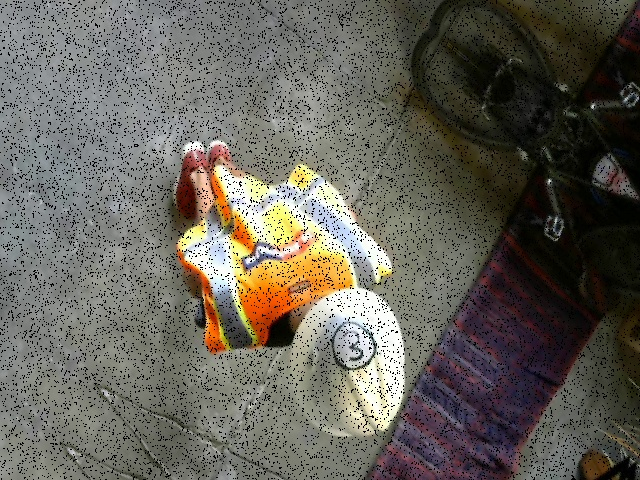three: (324, 315, 380, 380)
